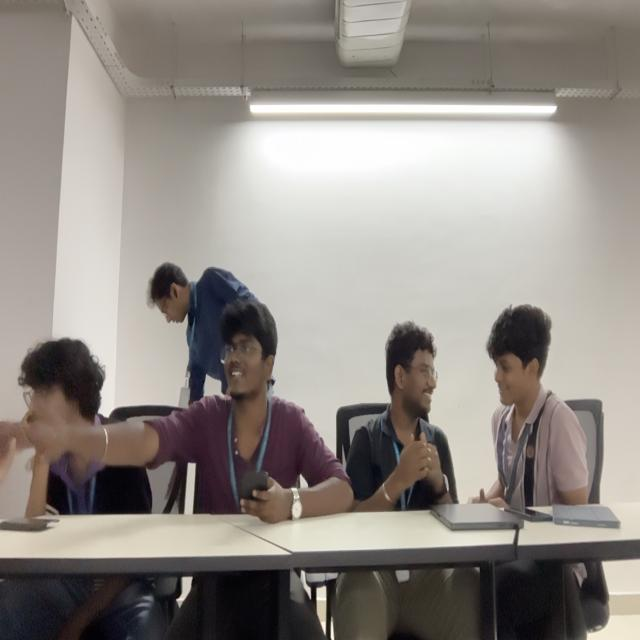Isolated: (0, 328, 131, 515)
socializing: (148, 262, 598, 520)
